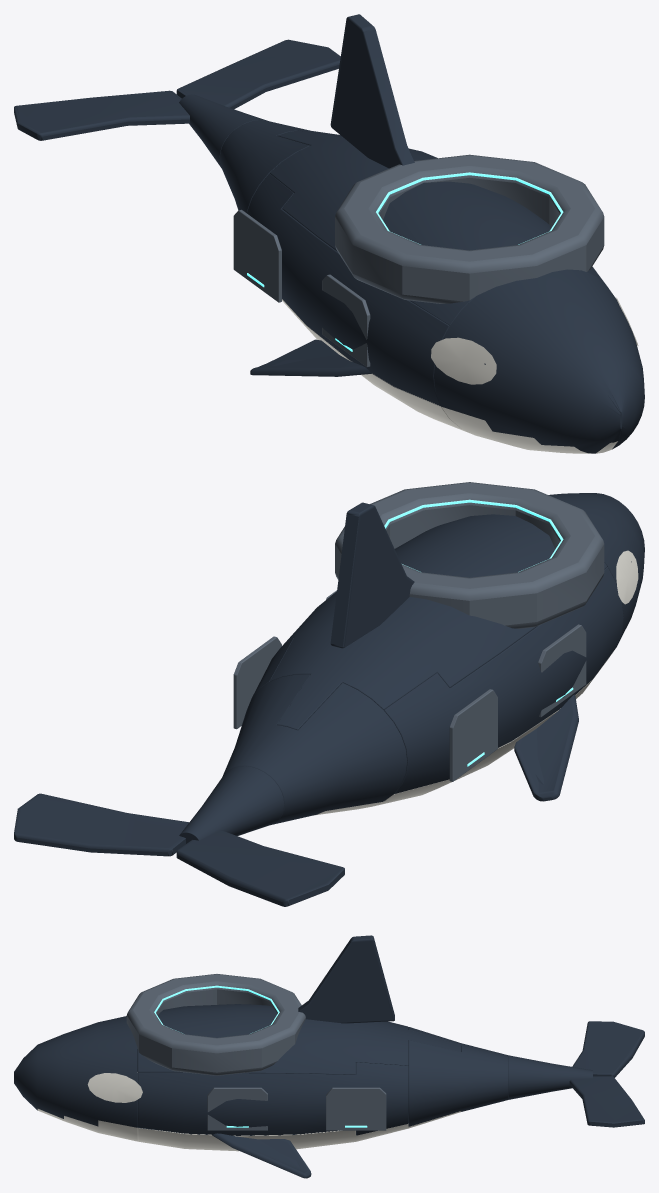
Rendered from subagent_orca.glb.
The picture shows the model from 3 angles, top to bottom: view 1: azimuth 30°, elevation 25°; view 2: azimuth 150°, elevation 25°; view 3: azimuth 270°, elevation 25°; orthographic projection. The views are drawn at different scales.
Parts seen in each view (by area): view 1: subagent_orca__panel_head, subagent_orca__dock_DCI-L_frame, subagent_orca__panel_spine, subagent_orca__panel_tool_left, subagent_orca__dorsal, subagent_orca__fluke_left, subagent_orca__fluke_right, subagent_orca__panel_workshop, subagent_orca__service_hatch__02, subagent_orca__pectoral_left, subagent_orca__eye_patch, subagent_orca__peduncle (+3 smaller); view 2: subagent_orca__panel_spine, subagent_orca__dock_DCI-L_frame, subagent_orca__panel_workshop, subagent_orca__panel_tool_left, subagent_orca__fluke_right, subagent_orca__dorsal, subagent_orca__fluke_left, subagent_orca__peduncle, subagent_orca__pectoral_left, subagent_orca__panel_head, subagent_orca__service_hatch__02, subagent_orca__service_hatch__04 (+4 smaller); view 3: subagent_orca__panel_tool_right, subagent_orca__dock_DCI-L_frame, subagent_orca__panel_spine, subagent_orca__panel_head, subagent_orca__panel_workshop, subagent_orca__dorsal, subagent_orca__panel_belly, subagent_orca__fluke_left, subagent_orca__service_hatch__04, subagent_orca__fluke_right, subagent_orca__peduncle, subagent_orca__pectoral_right (+3 smaller).
Part boxes in pixels (bbox=[...]): subagent_orca__panel_head: bbox=[434, 269, 644, 453]; subagent_orca__dock_DCI-L_frame: bbox=[335, 154, 604, 303]; subagent_orca__panel_spine: bbox=[269, 130, 606, 325]; subagent_orca__panel_tool_left: bbox=[247, 173, 449, 405]; subagent_orca__dorsal: bbox=[330, 14, 414, 168]; subagent_orca__fluke_left: bbox=[14, 90, 189, 140]; subagent_orca__fluke_right: bbox=[176, 39, 340, 109]; subagent_orca__panel_workshop: bbox=[219, 120, 342, 213]; subagent_orca__service_hatch__02: bbox=[233, 209, 281, 302]; subagent_orca__pectoral_left: bbox=[250, 339, 371, 376]; subagent_orca__eye_patch: bbox=[431, 337, 496, 384]; subagent_orca__peduncle: bbox=[179, 94, 267, 168]; subagent_orca__panel_spine: bbox=[269, 514, 607, 729]; subagent_orca__dock_DCI-L_frame: bbox=[335, 482, 604, 628]; subagent_orca__panel_workshop: bbox=[222, 674, 407, 824]; subagent_orca__panel_tool_left: bbox=[384, 566, 623, 793]; subagent_orca__fluke_right: bbox=[14, 793, 188, 856]; subagent_orca__dorsal: bbox=[330, 502, 414, 648]; subagent_orca__fluke_left: bbox=[176, 830, 344, 906]; subagent_orca__peduncle: bbox=[179, 766, 284, 843]; subagent_orca__pectoral_left: bbox=[514, 694, 578, 801]; subagent_orca__panel_head: bbox=[548, 493, 644, 645]; subagent_orca__service_hatch__02: bbox=[449, 689, 497, 781]; subagent_orca__service_hatch__04: bbox=[233, 636, 281, 729]; subagent_orca__panel_tool_right: bbox=[137, 1062, 408, 1135]; subagent_orca__dock_DCI-L_frame: bbox=[126, 974, 305, 1075]; subagent_orca__panel_spine: bbox=[137, 1004, 461, 1074]; subagent_orca__panel_head: bbox=[14, 1016, 137, 1141]; subagent_orca__panel_workshop: bbox=[408, 1027, 508, 1126]; subagent_orca__dorsal: bbox=[298, 935, 394, 1023]; subagent_orca__panel_belly: bbox=[137, 1111, 461, 1151]; subagent_orca__fluke_left: bbox=[572, 1021, 644, 1077]; subagent_orca__service_hatch__04: bbox=[326, 1087, 386, 1130]; subagent_orca__fluke_right: bbox=[569, 1076, 644, 1127]; subagent_orca__peduncle: bbox=[508, 1055, 592, 1099]; subagent_orca__pectoral_right: bbox=[212, 1133, 311, 1178].
Size of the model in its own units: 1.6 by 1.5 by 4.2.
